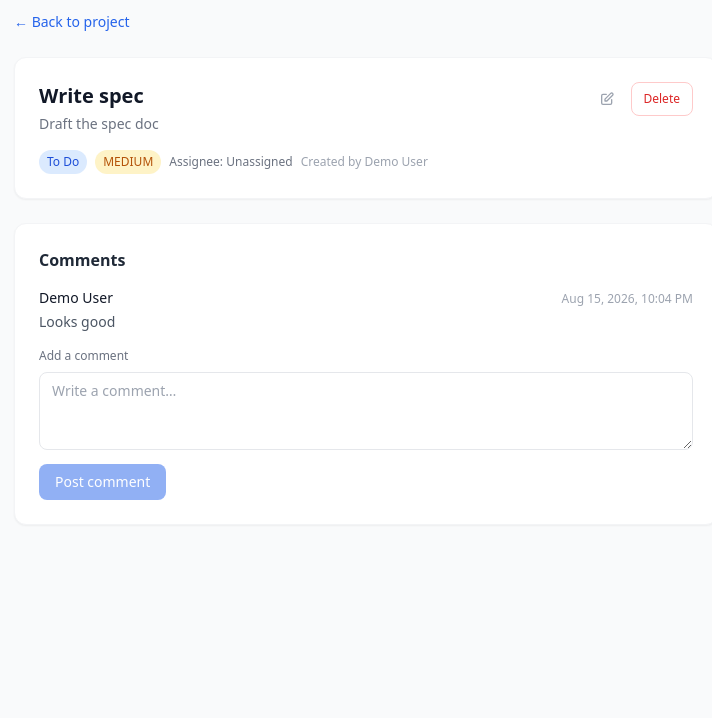
Test: TaskDetail › enters edit mode and saves updated task details
Expected: the heading "Write spec" is shown, [39, 82, 159, 110]
Step 1. Click the button named "edit task" → (606, 99), box [590, 83, 622, 115]
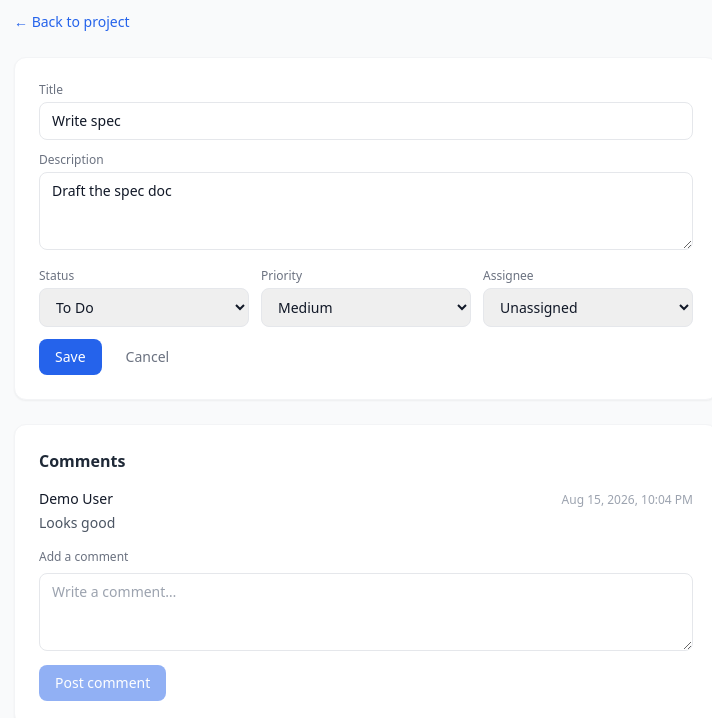
Step 2. Replace the text in the field labelled "Title" with "Renamed task" → (366, 121), box [39, 102, 693, 140]
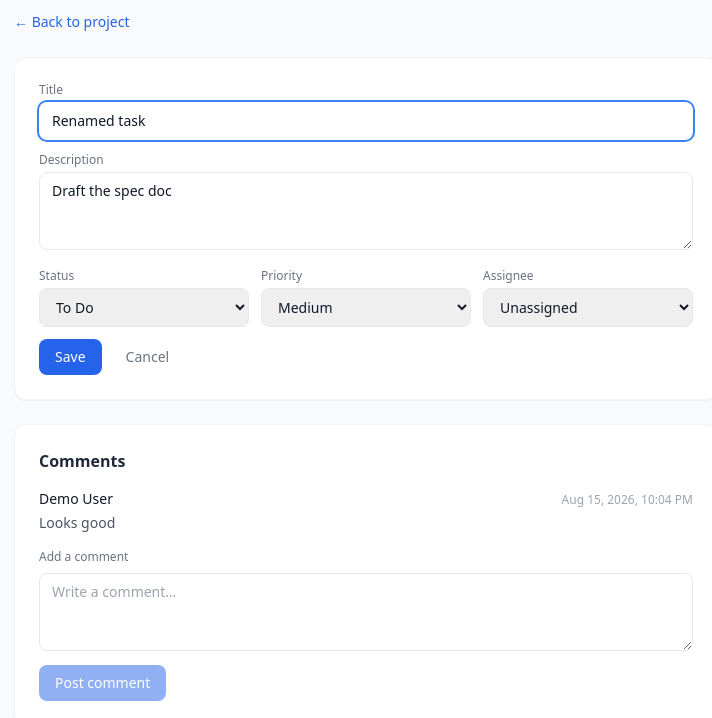
Step 3. Click the button "Save" → (70, 357), box [39, 339, 102, 375]
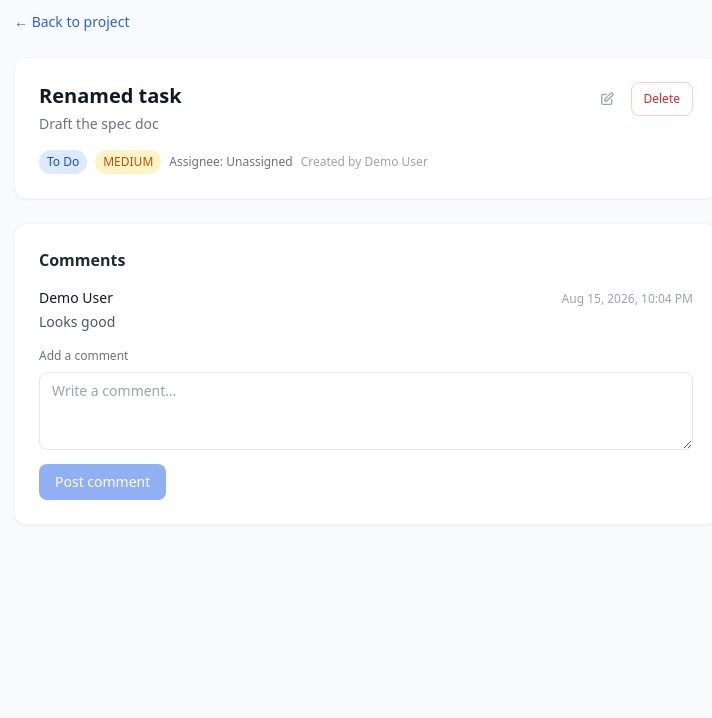
Expected: the heading "Renamed task" is shown, [39, 82, 182, 110]
